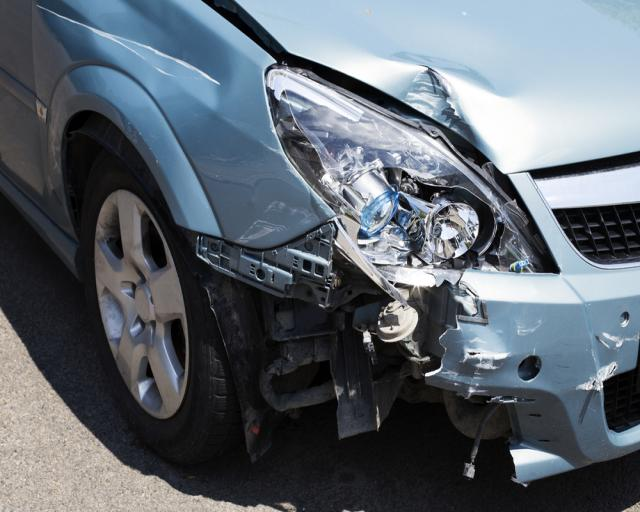dent: (378, 22, 518, 156), (88, 2, 233, 110)
lamp broken: (267, 66, 557, 277)
scratch: (459, 313, 550, 393), (570, 325, 640, 392), (234, 197, 313, 243)
